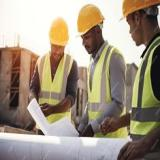Helmet: (74, 4, 105, 36), (117, 0, 160, 21), (49, 16, 70, 46)
Vest: (86, 44, 125, 137), (129, 35, 160, 138), (37, 49, 72, 130)
